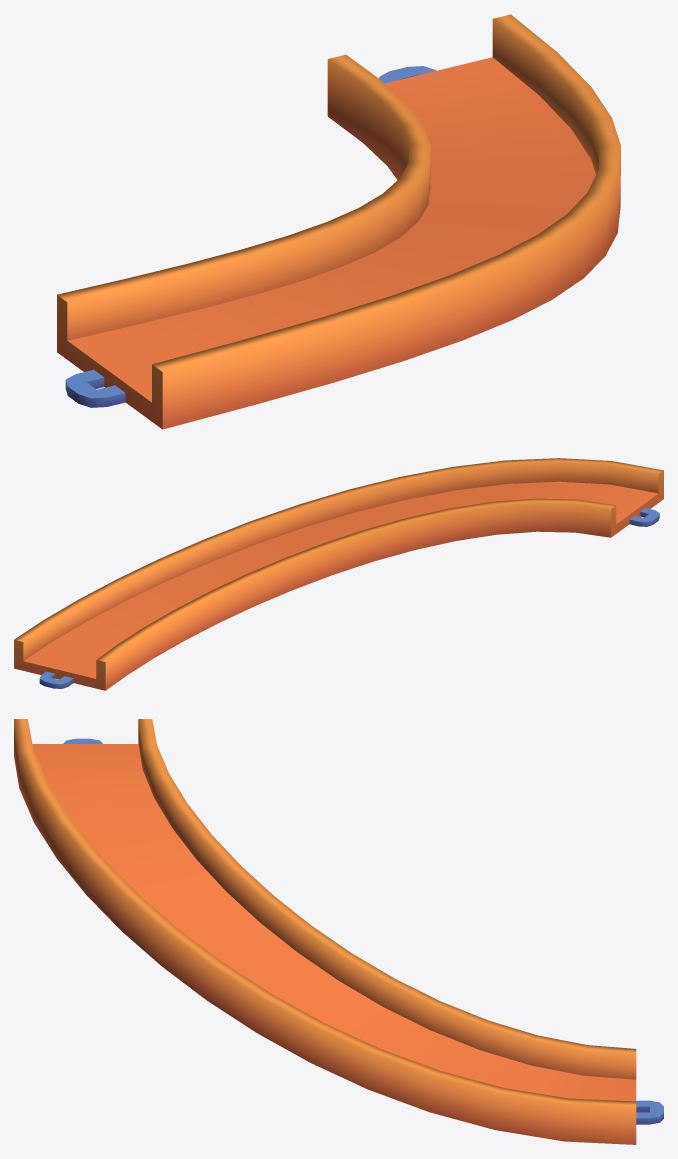
Rendered from track-narrow-corner-large-ramp.glb.
3 renders of one model, top to bottom at view 1: azimuth 30°, elevation 25°; view 2: azimuth 150°, elevation 25°; view 3: azimuth 270°, elevation 25°, orthographic. The views are drawn at different scales.
Parts seen in each view (by area): view 1: track-narrow-corner-large-ramp; view 2: track-narrow-corner-large-ramp; view 3: track-narrow-corner-large-ramp.
Part boxes in pixels (bbox=[...]): track-narrow-corner-large-ramp: bbox=[57, 14, 620, 429]; track-narrow-corner-large-ramp: bbox=[14, 458, 663, 690]; track-narrow-corner-large-ramp: bbox=[14, 719, 663, 1144].
Bounding box in the file's own units: 4.7 × 1.3 × 4.7.
1 material, 1 textured.
